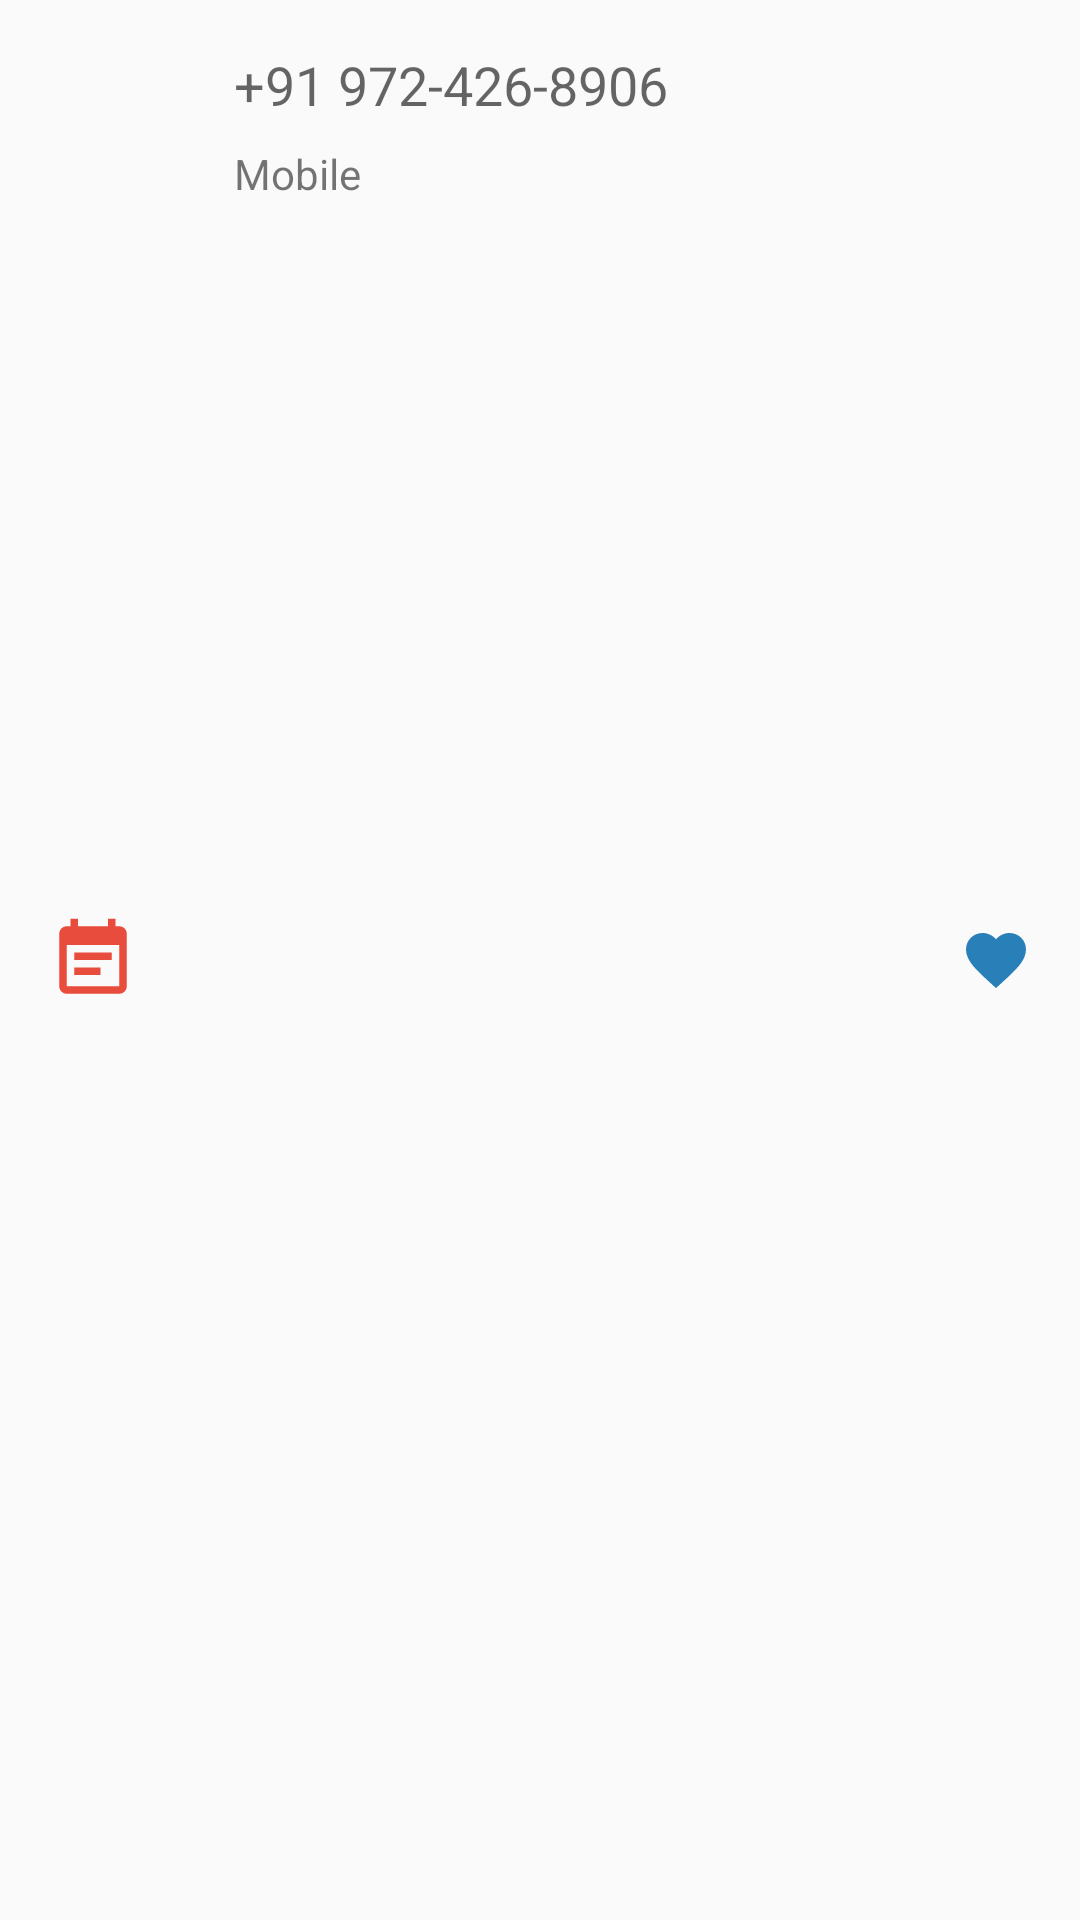

Named icons in this screenshot (1080x1920) and their bounding boxes, (x1, y1, x2, y2):
event: (59, 918, 127, 994)
favorite: (966, 933, 1026, 988)
